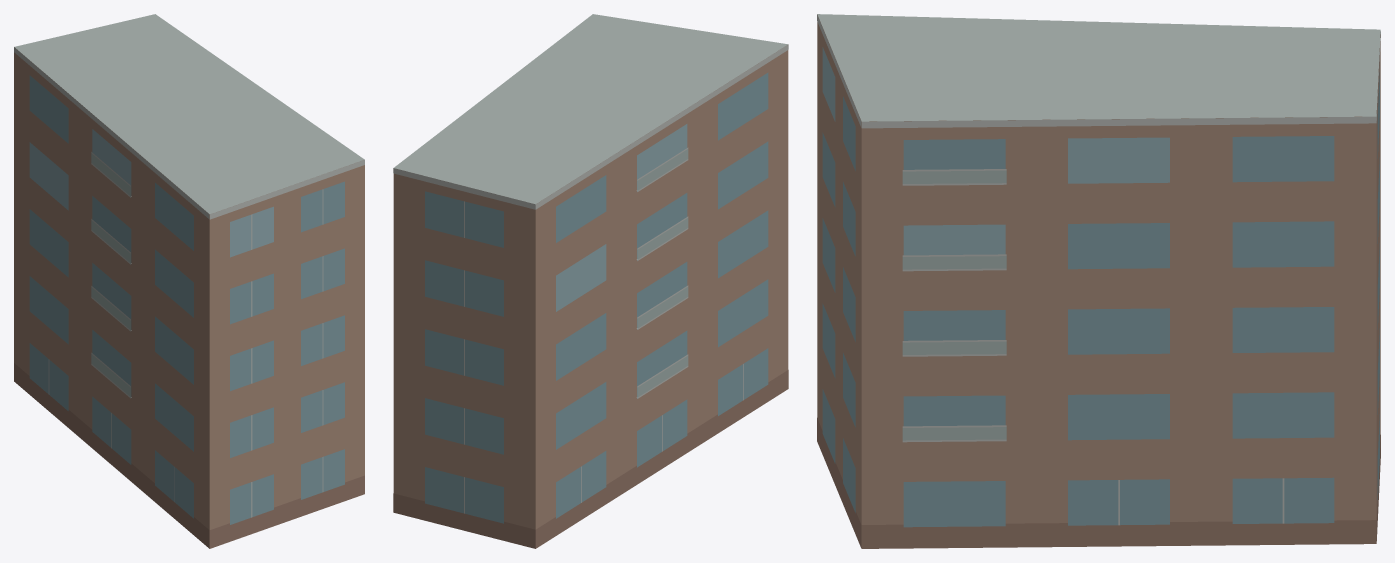
The model's file is survey-upis-32640924.glb.
3 views of the same model, side by side, from view 1: azimuth 30°, elevation 25°; view 2: azimuth 150°, elevation 25°; view 3: azimuth 270°, elevation 25° (orthographic). The views are drawn at different scales.
Visible parts, largest first — view 1: survey-upis-32640924.tmp; view 2: survey-upis-32640924.tmp; view 3: survey-upis-32640924.tmp.
Boxes of the visible parts, <box> form: survey-upis-32640924.tmp: <box>14,14,364,548</box>; survey-upis-32640924.tmp: <box>393,14,788,548</box>; survey-upis-32640924.tmp: <box>817,14,1380,548</box>.
Size of the model in its own units: 8.24 by 15.25 by 18.23.
